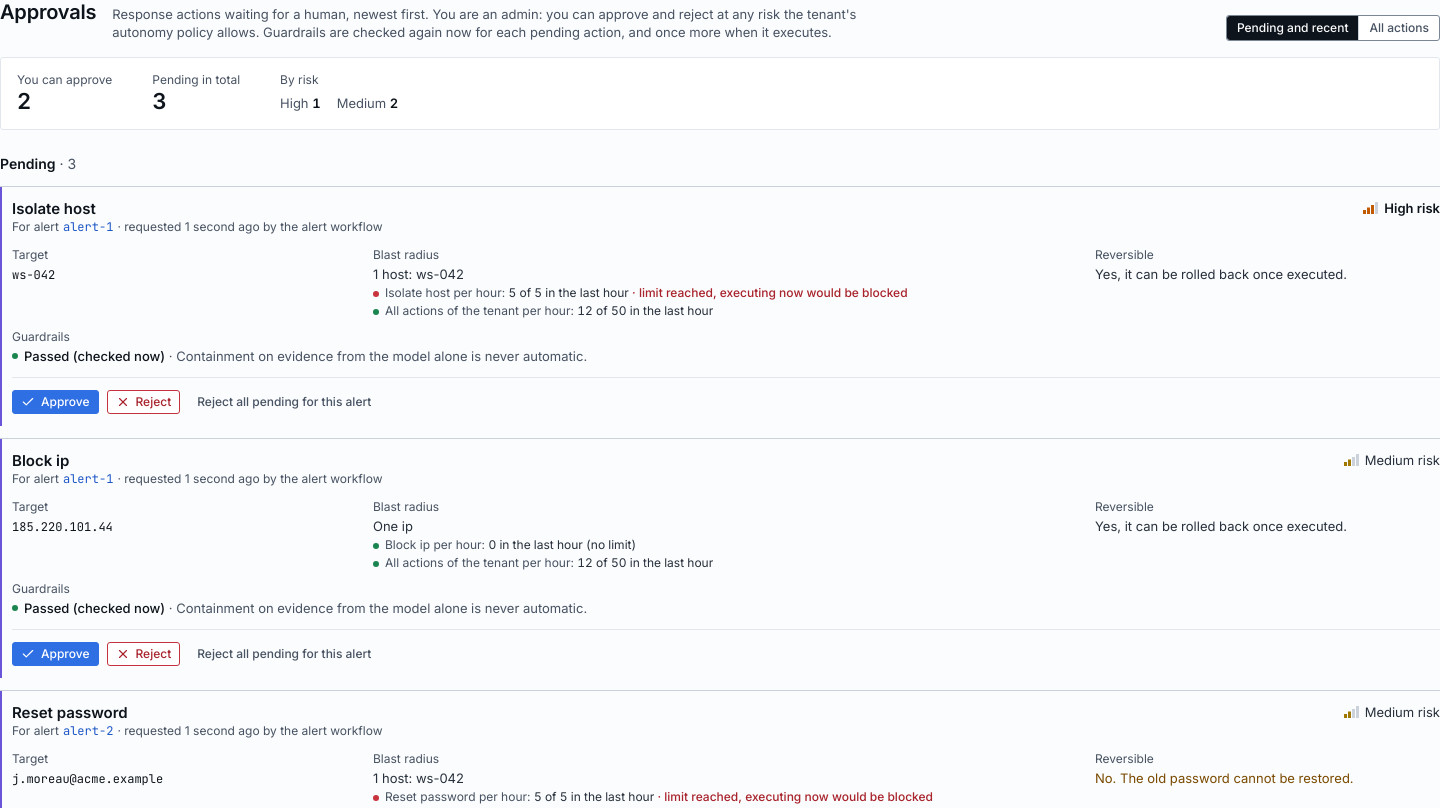
Test: ApprovalsPage: pending approvals › an admin approves, and the decision goes to the API with the toast
Click the 1st button "Approve". click: (55, 402)
box: 12,390 -> 98,414
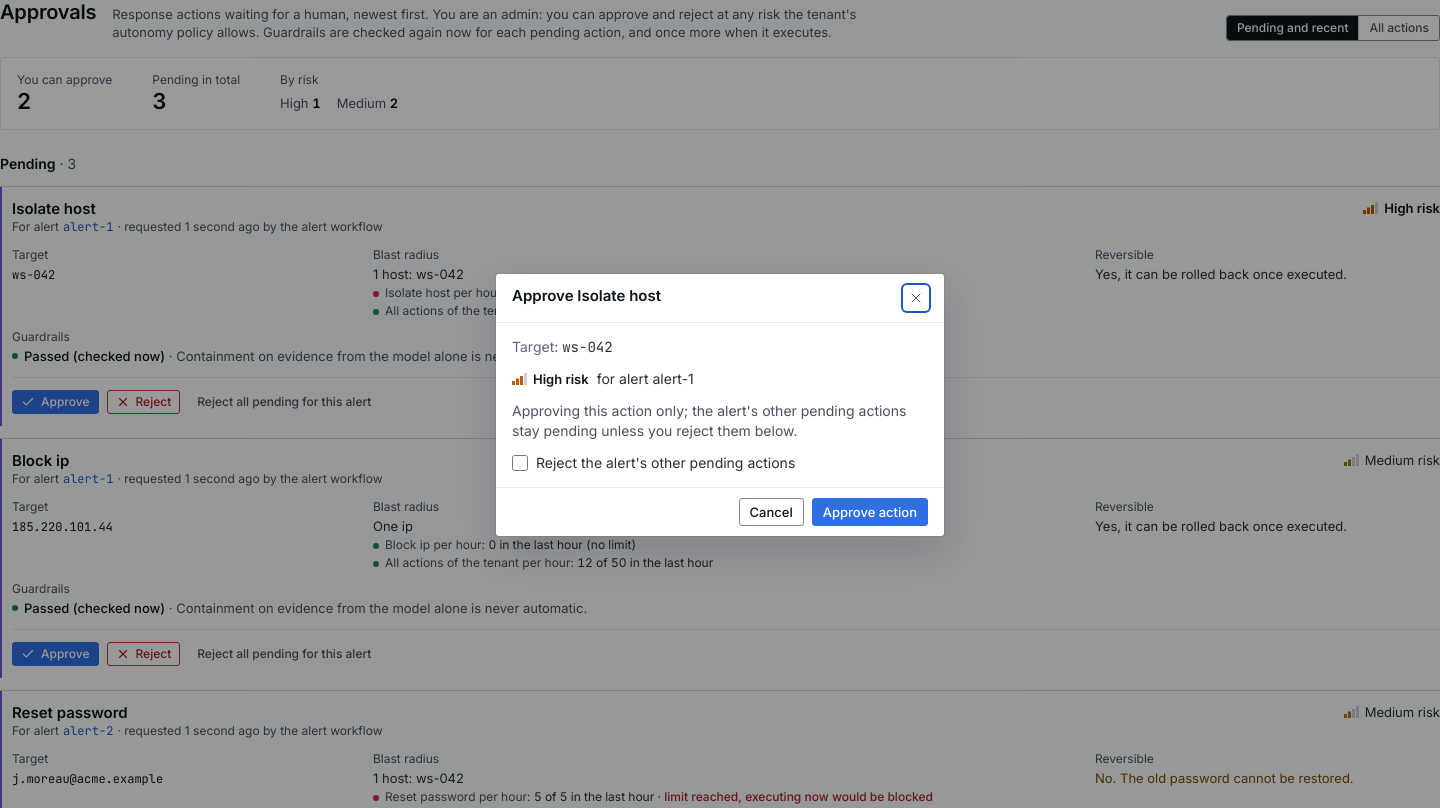
Click the button "Approve action". click: (870, 512)
box: 812,498 -> 928,526
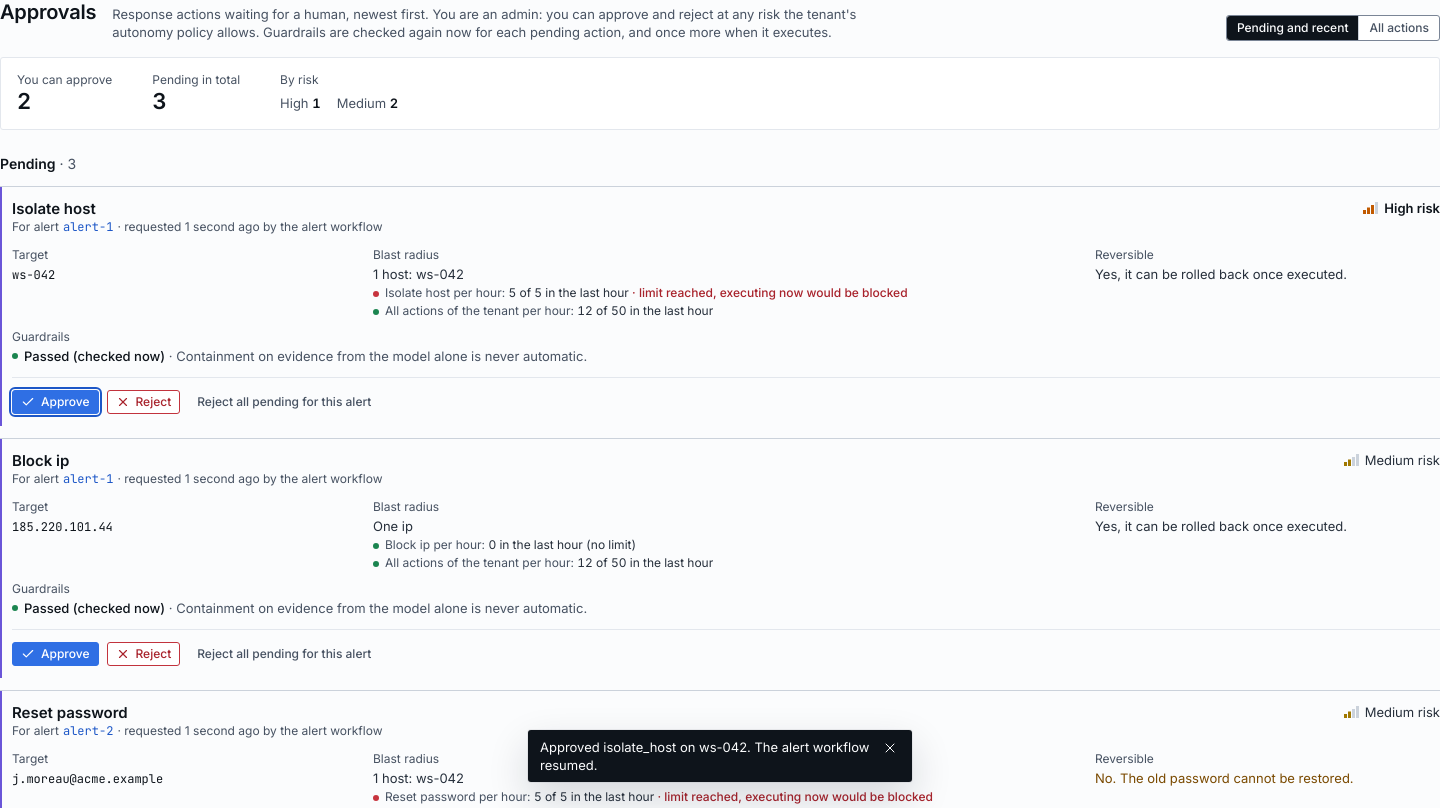
Check: the text "Approved isolate_host on ws-042. The alert workflow resumed." is shown, box 540,738 -> 872,774
